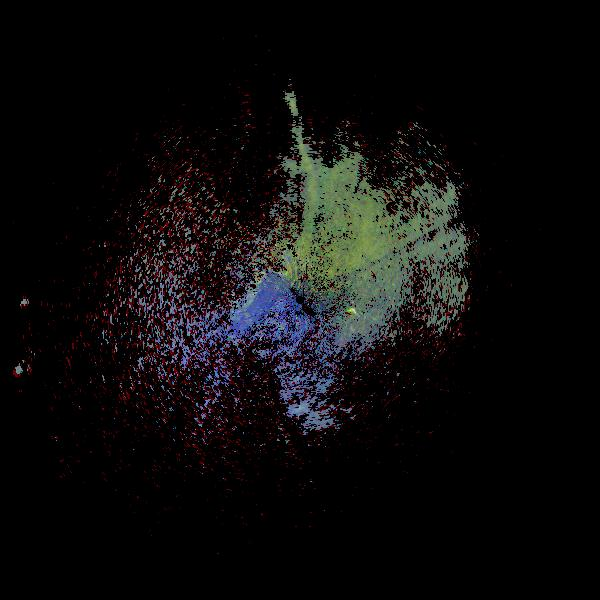roost: (348, 307, 360, 319)
